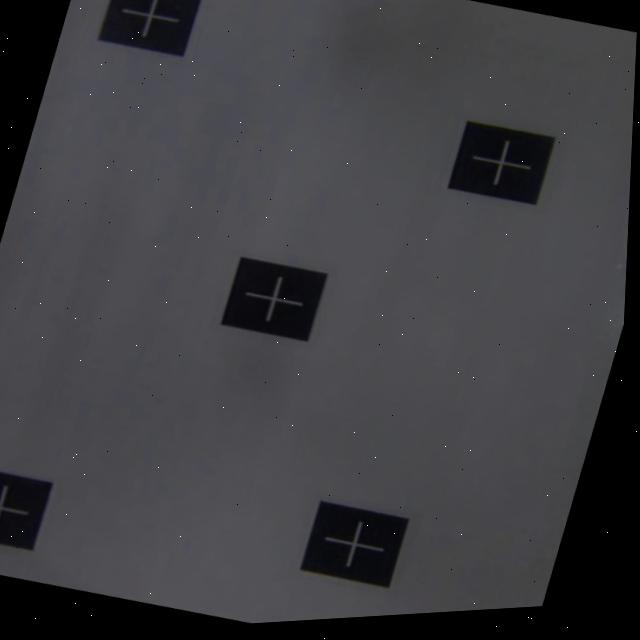dot: (297, 493, 410, 596), (447, 116, 558, 211), (220, 253, 325, 346), (95, 0, 201, 61), (0, 461, 52, 553)
